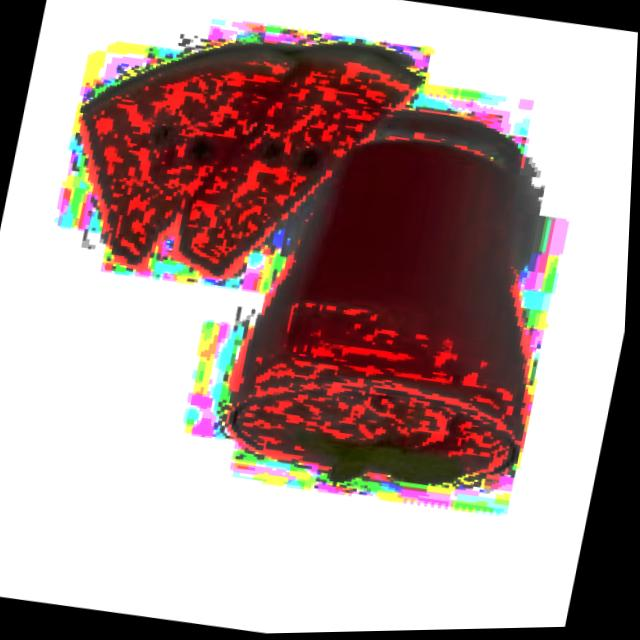drink: (211, 73, 595, 513)
